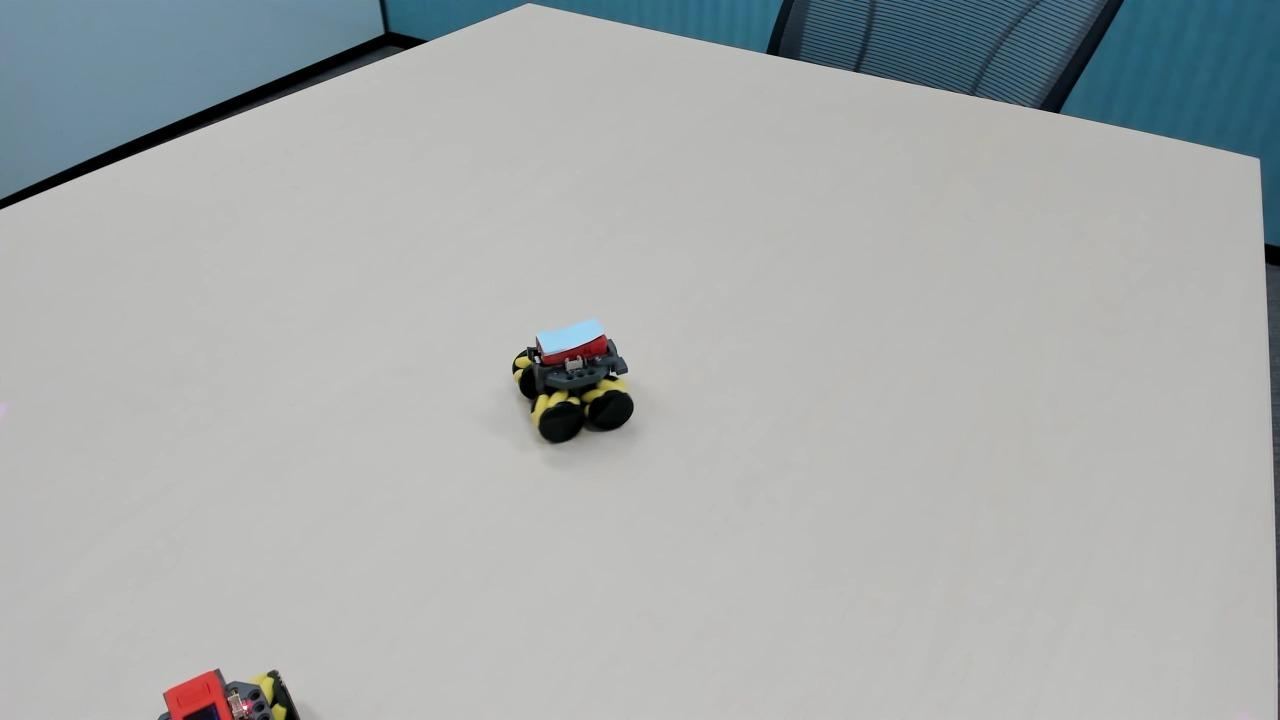B-Robot: (498, 314, 640, 450)
R-Robot: (145, 651, 322, 720)
